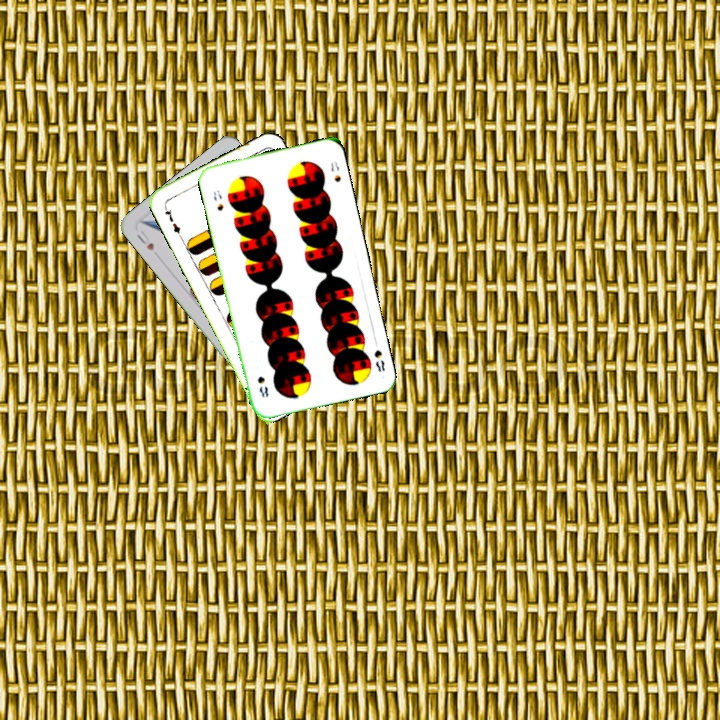E7: (160, 201, 184, 239)
HU: (133, 226, 157, 253)
S8: (370, 335, 387, 374), (209, 186, 226, 213)
